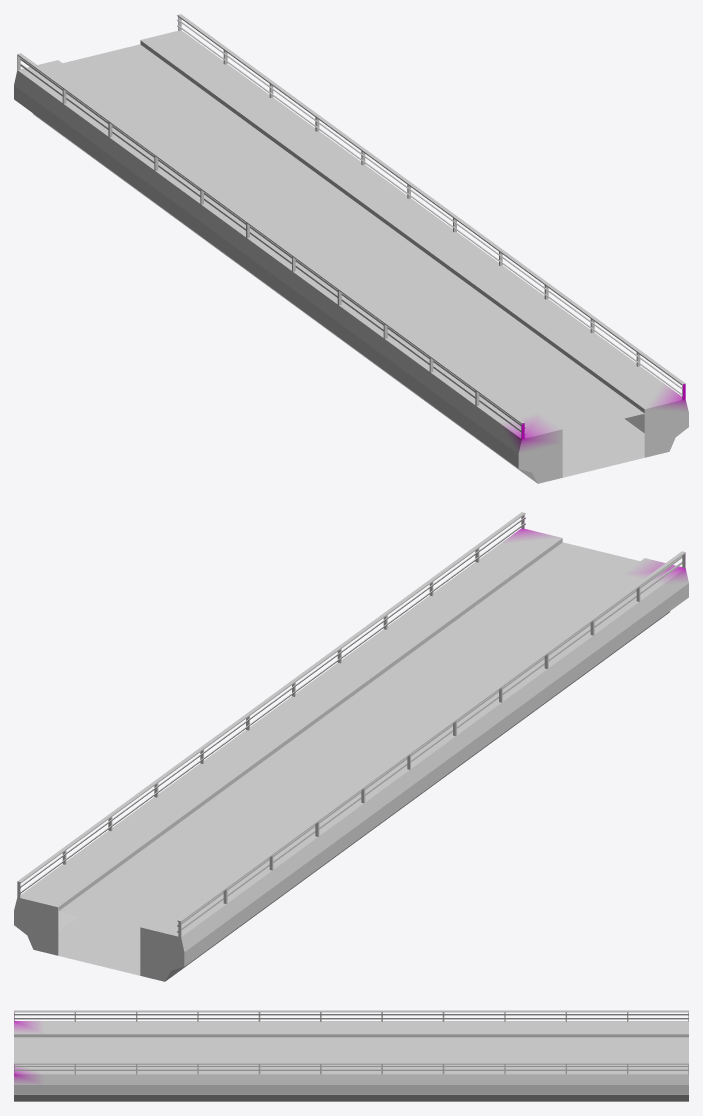
File: Basic Road Elevated_node_0.fbx
3 views of the same model, one above another, from view 1: azimuth 30°, elevation 25°; view 2: azimuth 150°, elevation 25°; view 3: azimuth 270°, elevation 25° (orthographic). The views are drawn at different scales.
Visible parts, largest first — view 1: SmallRoadElevatedNode; view 2: SmallRoadElevatedNode; view 3: SmallRoadElevatedNode.
Boxes of the visible parts, bbox=[...] form: SmallRoadElevatedNode: bbox=[14, 14, 688, 483]; SmallRoadElevatedNode: bbox=[14, 512, 688, 981]; SmallRoadElevatedNode: bbox=[14, 1010, 688, 1101].
Size of the model in its own units: 12.48 by 4.51 by 64.
